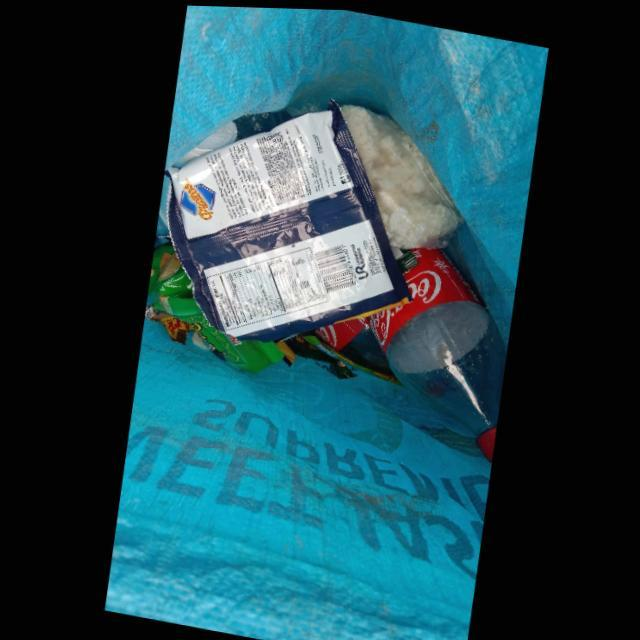food_wrapper: (159, 96, 410, 343), (146, 244, 284, 373)
left_over_food: (341, 102, 464, 246)
plastic_bottle: (368, 245, 506, 460)
